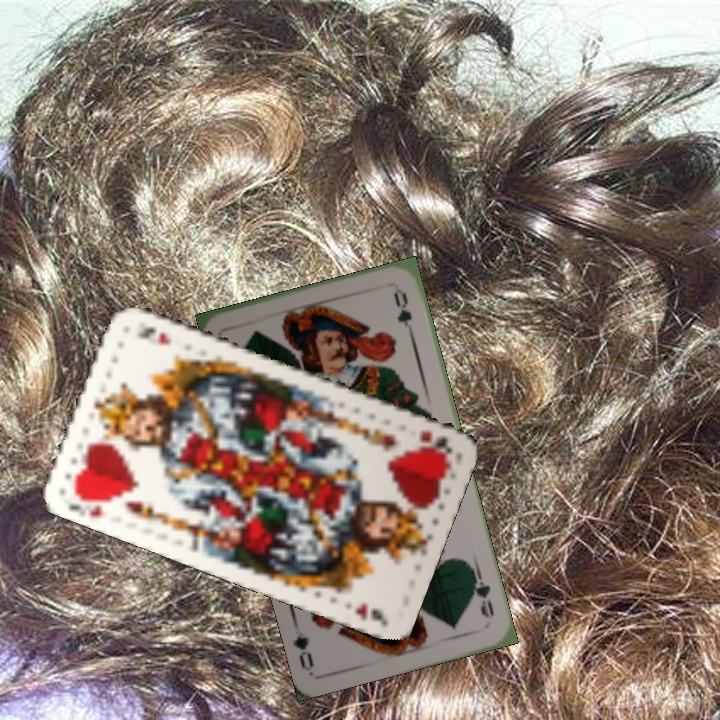GO: (469, 565, 497, 620)
HK: (62, 484, 116, 521), (414, 425, 453, 457)
